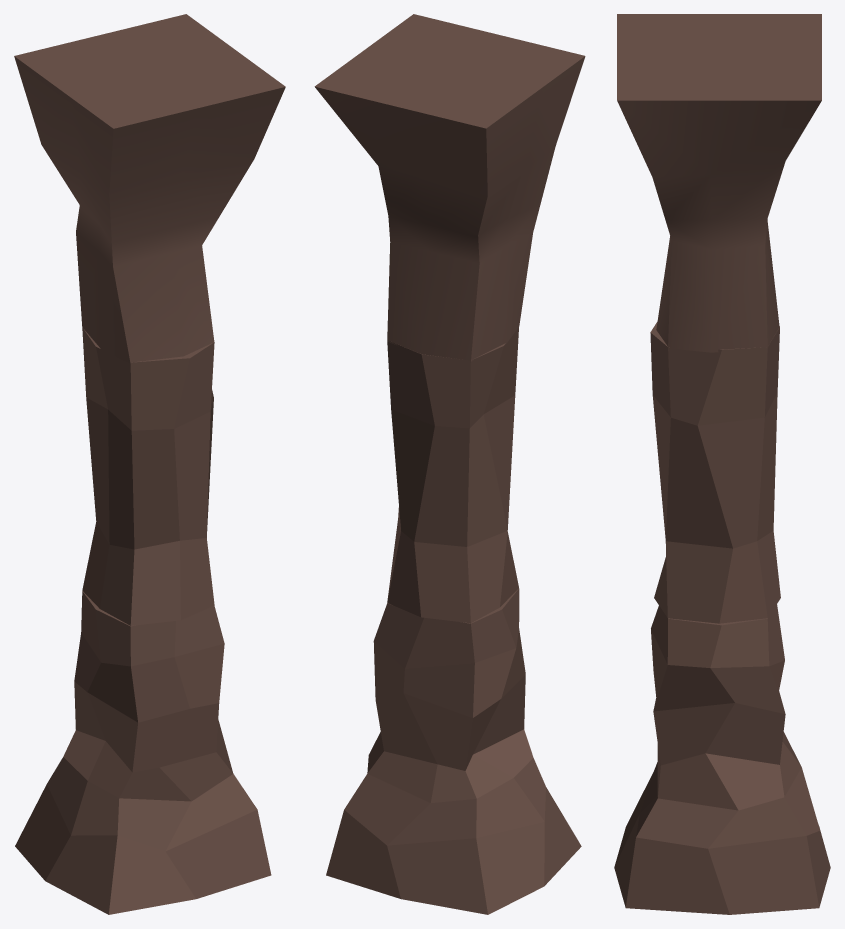
File: Cave_Pillar.fbx
The picture shows the model from 3 angles, left to right: view 1: azimuth 30°, elevation 25°; view 2: azimuth 150°, elevation 25°; view 3: azimuth 270°, elevation 25°; orthographic projection. The views are drawn at different scales.
Visible parts, largest first — view 1: Cave_Pillar_Top_Low, Cave_Pillar_Bottom_Low, Cave_Pillar_Middle_Low; view 2: Cave_Pillar_Top_Low, Cave_Pillar_Bottom_Low, Cave_Pillar_Middle_Low; view 3: Cave_Pillar_Top_Low, Cave_Pillar_Bottom_Low, Cave_Pillar_Middle_Low.
Boxes of the visible parts, bbox=[...] form: Cave_Pillar_Top_Low: bbox=[14, 14, 285, 363]; Cave_Pillar_Bottom_Low: bbox=[15, 591, 271, 914]; Cave_Pillar_Middle_Low: bbox=[82, 328, 214, 625]; Cave_Pillar_Top_Low: bbox=[314, 14, 585, 361]; Cave_Pillar_Bottom_Low: bbox=[326, 588, 581, 914]; Cave_Pillar_Middle_Low: bbox=[387, 327, 518, 623]; Cave_Pillar_Top_Low: bbox=[617, 14, 821, 352]; Cave_Pillar_Bottom_Low: bbox=[614, 604, 830, 914]; Cave_Pillar_Middle_Low: bbox=[650, 322, 780, 623].
Size of the model in its own units: 2.25 by 2.17 by 8.99.
